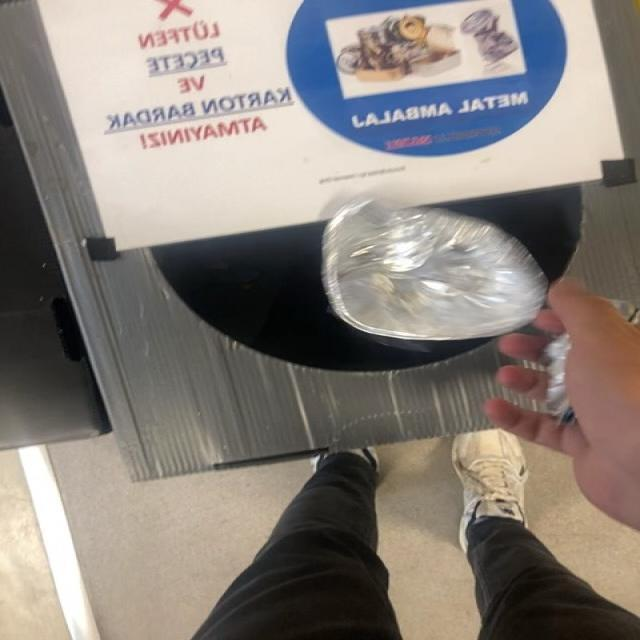Bin: (1, 0, 639, 480)
Metal: (323, 198, 548, 341)
